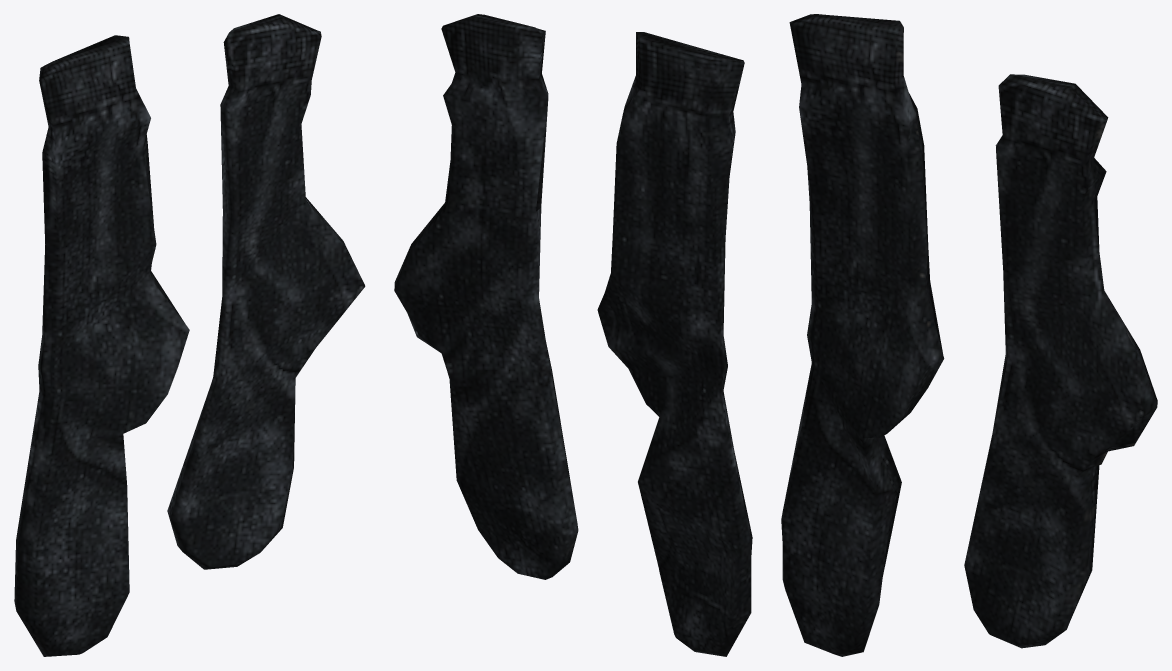
The model's file is 034_socks01b.fbx.
3 views of the same model, side by side, from view 1: azimuth 30°, elevation 25°; view 2: azimuth 150°, elevation 25°; view 3: azimuth 330°, elevation 25° (orthographic). The views are drawn at different scales.
Visible parts, largest first — view 1: LOD_1_Group_1_Sub_1__sm36_034_Socks01B_A_Mat, LOD_1_Group_0_Sub_1__sm36_034_Socks01B_A_Mat; view 2: LOD_1_Group_1_Sub_1__sm36_034_Socks01B_A_Mat, LOD_1_Group_0_Sub_1__sm36_034_Socks01B_A_Mat; view 3: LOD_1_Group_1_Sub_1__sm36_034_Socks01B_A_Mat, LOD_1_Group_0_Sub_1__sm36_034_Socks01B_A_Mat.
Part boxes in pixels (x1,y1,x2,y2): LOD_1_Group_1_Sub_1__sm36_034_Socks01B_A_Mat: [14, 35, 189, 656]; LOD_1_Group_0_Sub_1__sm36_034_Socks01B_A_Mat: [167, 14, 365, 569]; LOD_1_Group_1_Sub_1__sm36_034_Socks01B_A_Mat: [597, 32, 752, 656]; LOD_1_Group_0_Sub_1__sm36_034_Socks01B_A_Mat: [394, 14, 578, 579]; LOD_1_Group_1_Sub_1__sm36_034_Socks01B_A_Mat: [781, 14, 944, 656]; LOD_1_Group_0_Sub_1__sm36_034_Socks01B_A_Mat: [964, 74, 1157, 648].
Size of the model in its own units: 0.2582 by 0.4263 by 0.0461.
